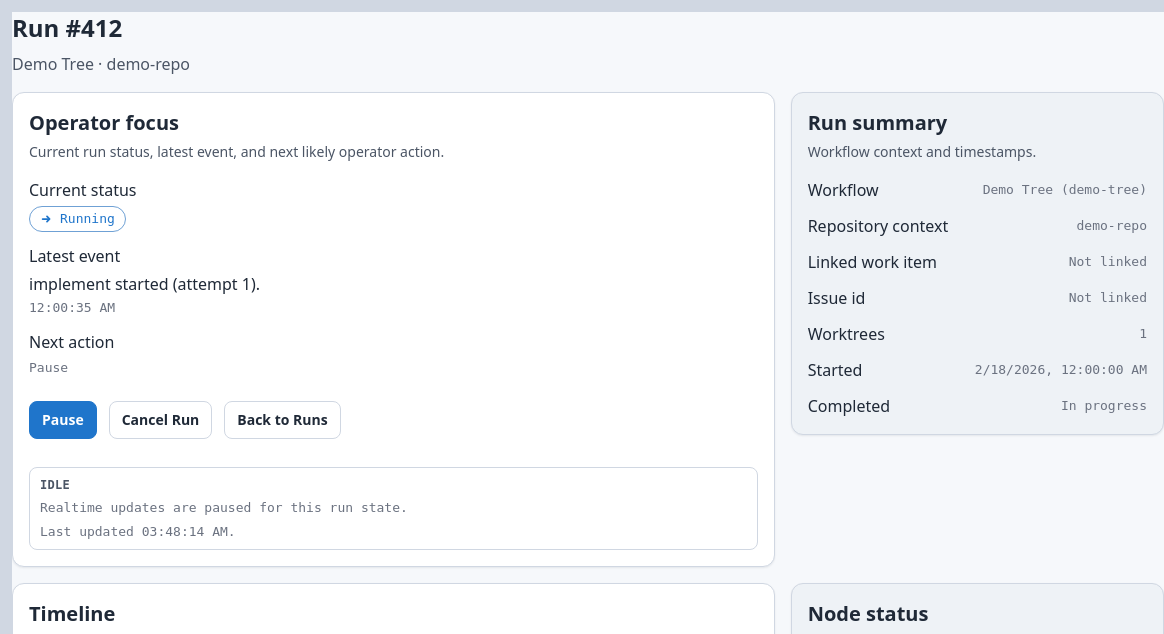
Test case: RunDetailContent realtime updates › handles cancel applied control feedback
Click the button "Cancel Run": (160, 420) 109,401 -> 212,439
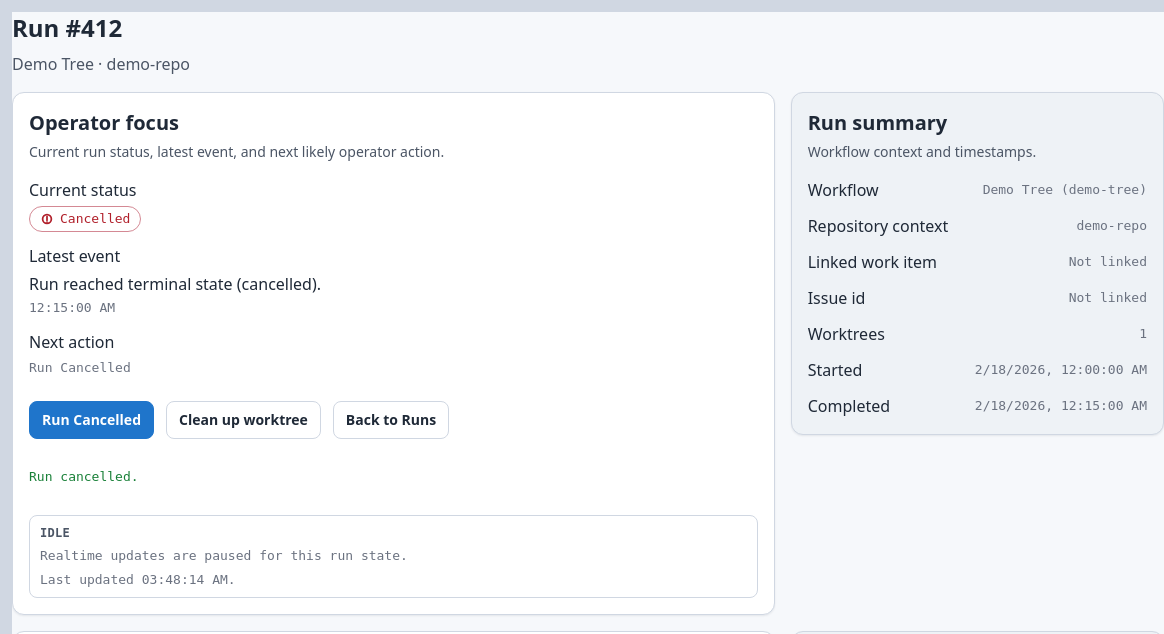
Check: the text "Run cancelled." is shown, box 29,469 -> 139,484
Check: the button "Run Cancelled" is shown, box 29,401 -> 154,439
